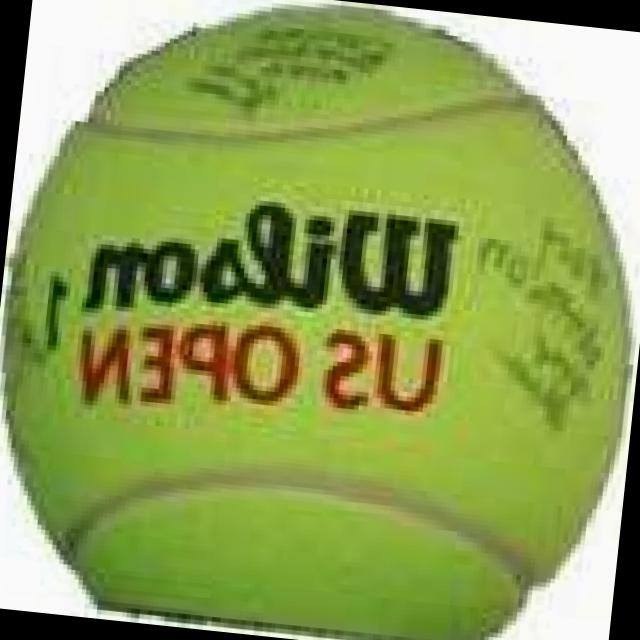Tennis Ball: (6, 3, 638, 640)
